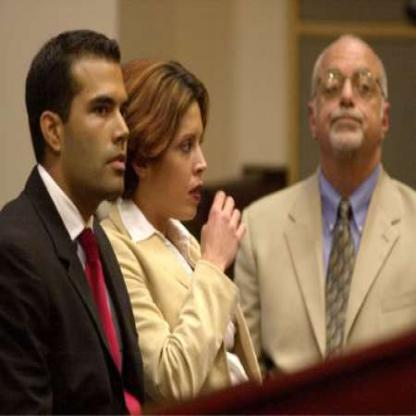face: (134, 71, 212, 225), (57, 45, 135, 198), (314, 39, 388, 161)
